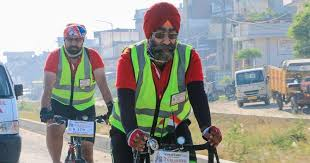helmet: (141, 2, 186, 63)
